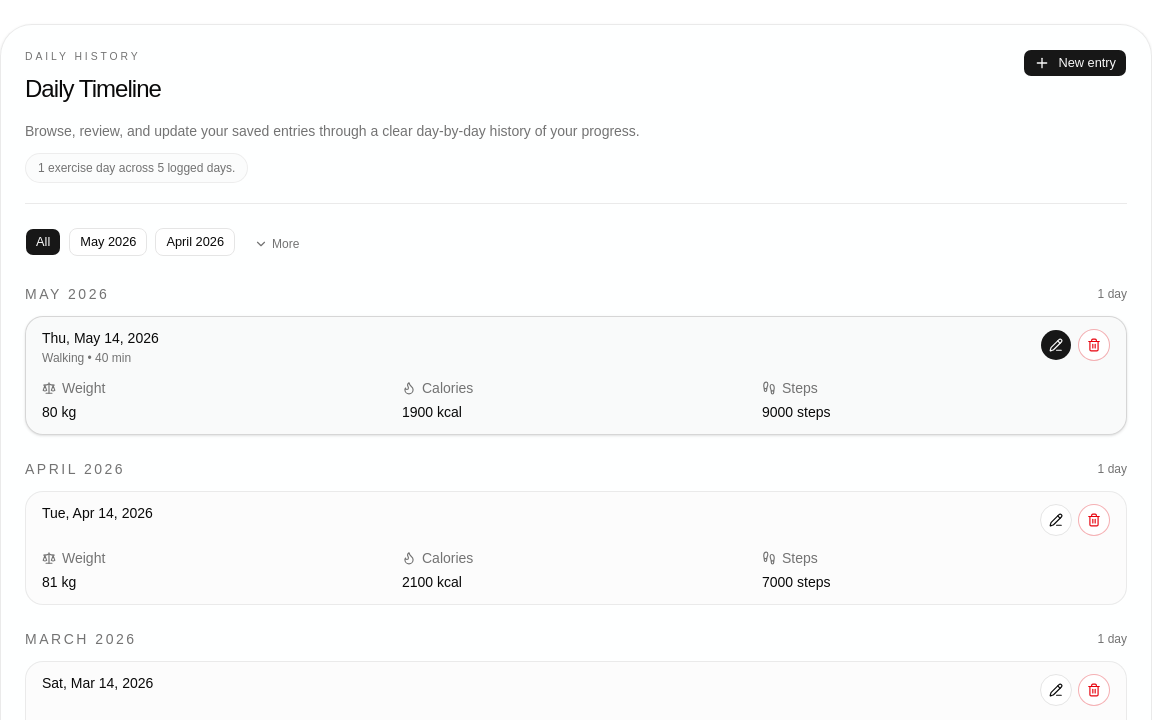
DailyHistoryPage › shows the latest two month chips by default and can expand older months
Expected: the button "May 2026" is shown, [69, 228, 147, 256]
Expected: the button "April 2026" is shown, [155, 228, 235, 256]
Click the button with aria-label "expand month filters": coordinates (277, 244) [243, 228, 310, 260]
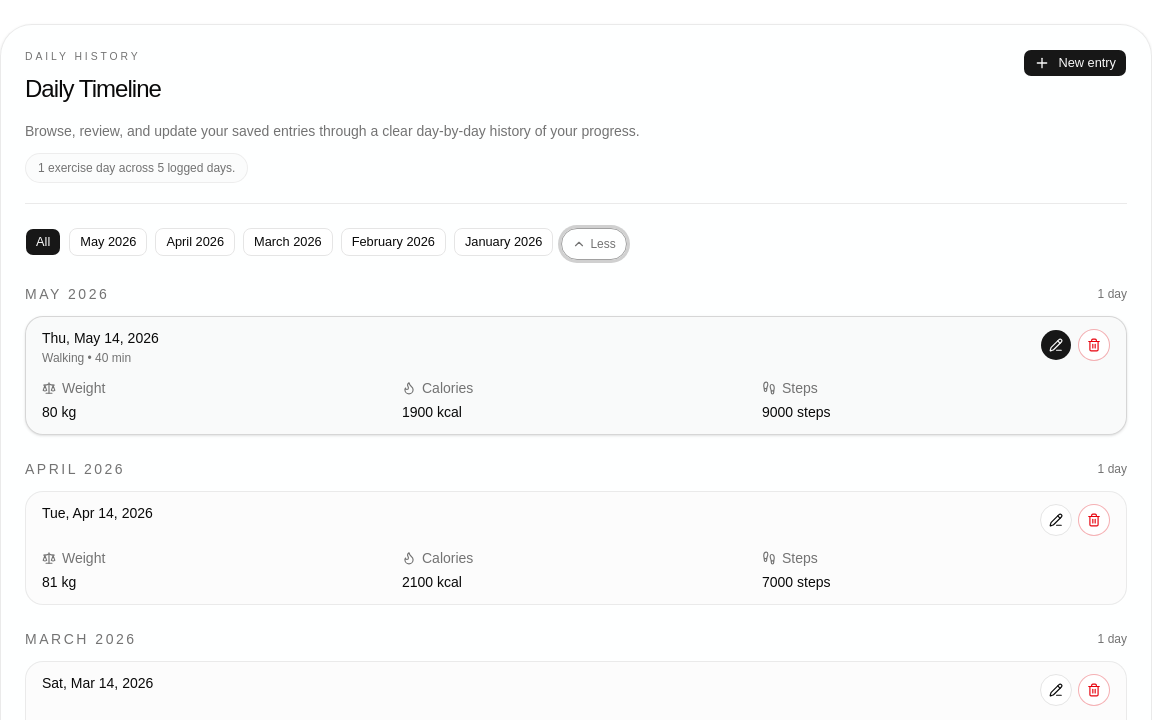
Result: the button "March 2026" is shown at [243, 228, 333, 256]
Result: the button "February 2026" is shown
Result: the button "January 2026" is shown at [454, 228, 554, 256]
Click the button "February 2026": coordinates (393, 242) [341, 228, 446, 256]
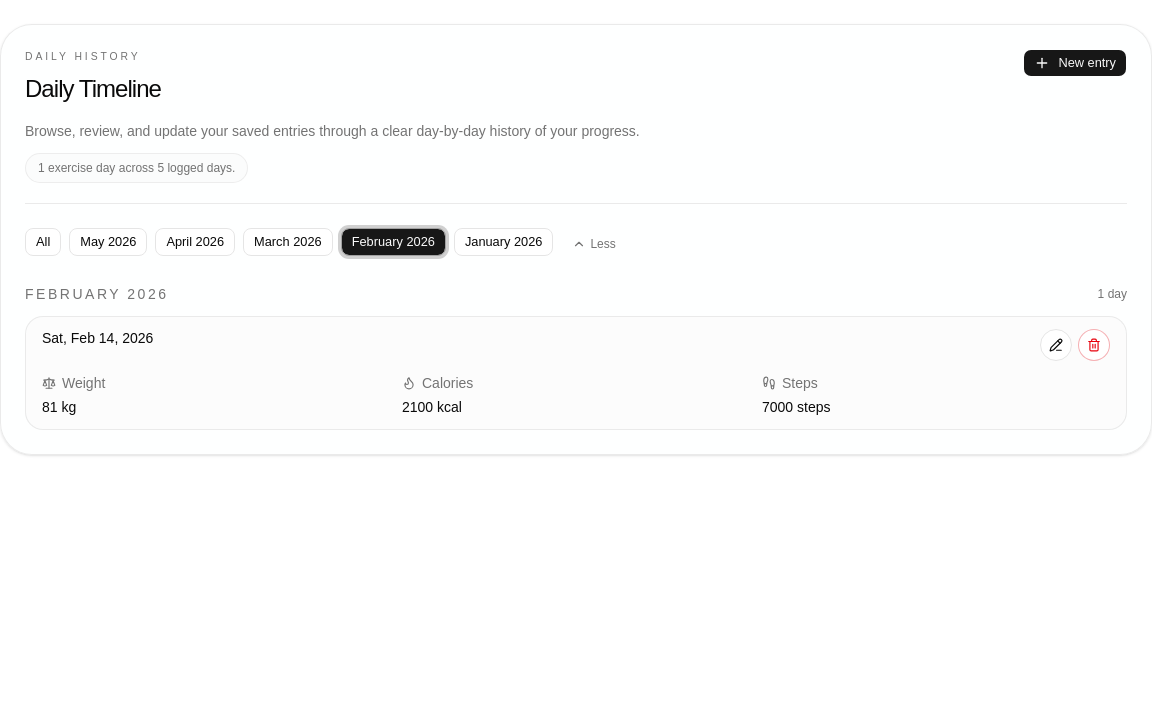
Expected: the text "Sat, Feb 14, 2026" is shown, [42, 330, 153, 346]
Result: the button "Thu, May 14, 2026" is gone
Click the button with aria-label "collapse month filters": coordinates (594, 244) [561, 228, 627, 260]
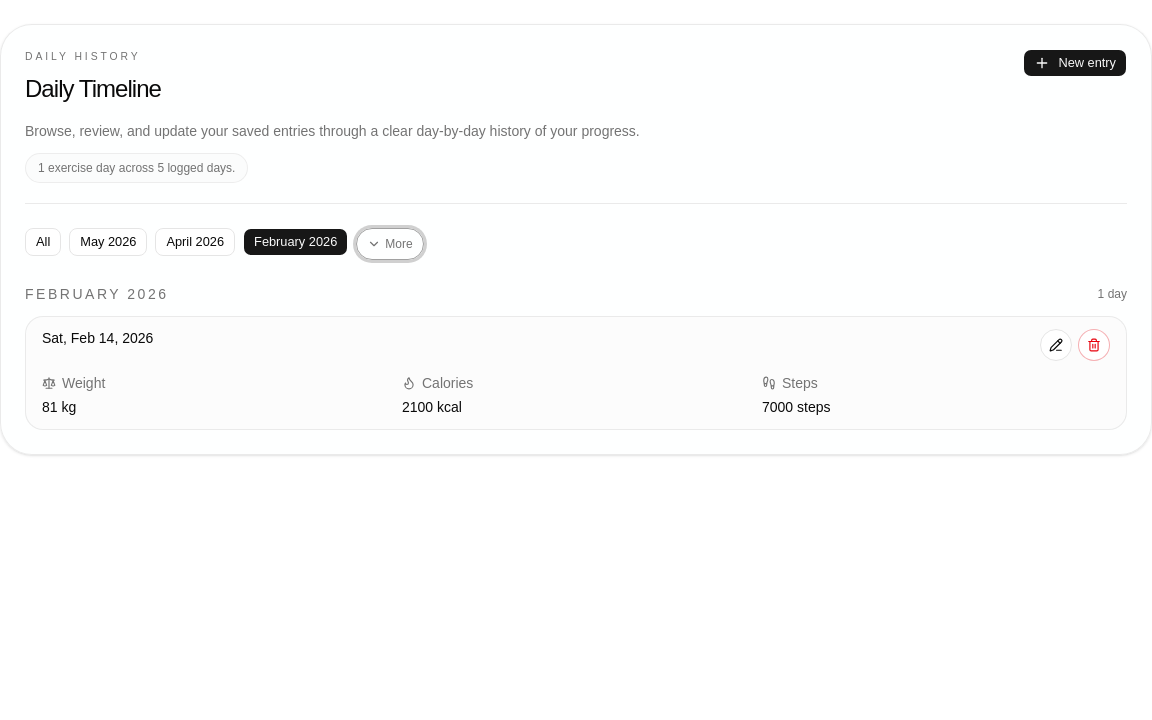
Result: the button "February 2026" is shown at [243, 228, 348, 256]
Result: the button "January 2026" is gone
